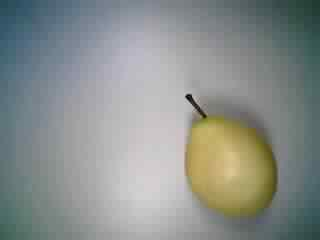pear: (173, 87, 283, 229)
